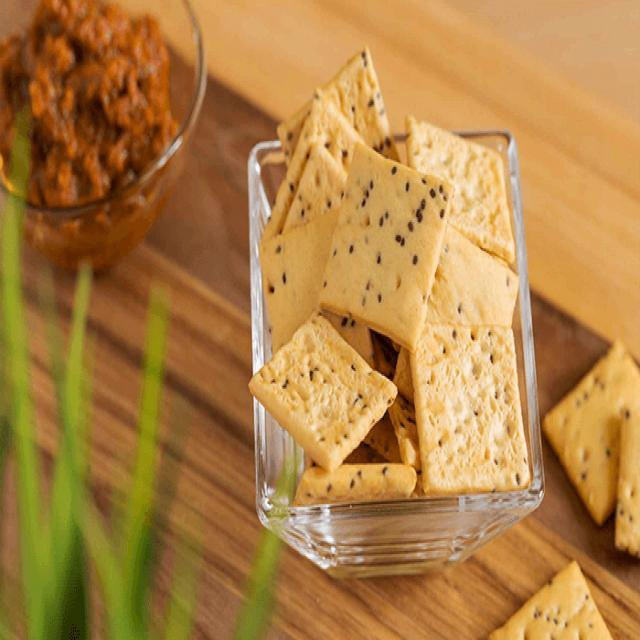Cracker: (323, 138, 449, 354), (252, 308, 404, 467), (404, 313, 526, 493)
